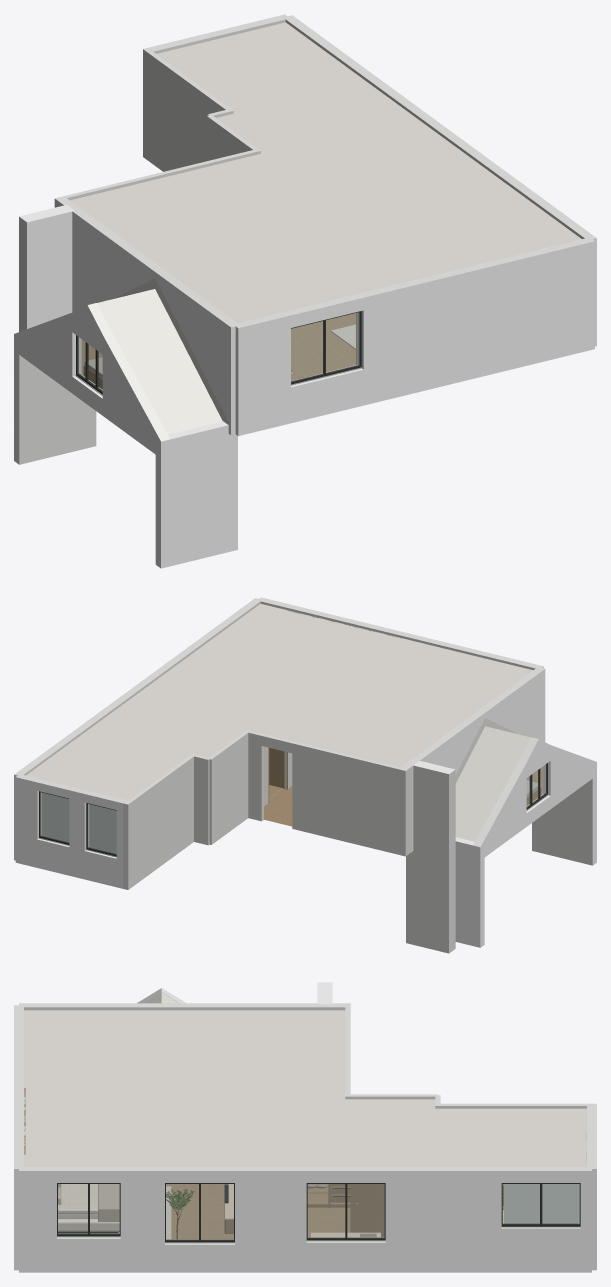
3 views of the same model, one above another, from view 1: azimuth 30°, elevation 25°; view 2: azimuth 150°, elevation 25°; view 3: azimuth 270°, elevation 25° (orthographic). The views are drawn at different scales.
Parts seen in each view (by area): view 1: Bedroom 02 | ceiling 0, Proposal | New wing south upper end pier.001, Bedroom 02 | ceiling 2, Proposal | Garage wing south return.001, Proposal | West upper principal facade above wing roof.001, Bedroom 02 | retained vault soffit, Proposal | New wing south upper pier 0.001, Proposal | Garage wing north return.001, Proposal | Entrance bay south return.001, Proposal | Guest bathroom west.001, Proposal | New wing south upper window 0 glass.001, Proposal | Continued roof garage wing gable south head 0.001 (+15 smaller); view 2: Bedroom 02 | ceiling 0, Bedroom 02 | ceiling 2, Proposal | Principal suite north partition pier 0.001, Proposal | Entrance bay south return.001, Bedroom 02 | retained vault soffit.001, Proposal | West upper principal facade above wing roof.001, Proposal | Guest bathroom west.001, Proposal | Garage wing south return.001, Proposal | Principal study west wall.001, Proposal | Garage wing north return.001, Proposal | Courtyard upper return.001, Proposal | North upper facade east end pier.001 (+21 smaller); view 3: Bedroom 02 | ceiling 0, Bedroom 02 | ceiling 2, Proposal | New wing east upper end pier.001, Proposal | New wing east upper pier 2.001, Proposal | New wing east upper pier 1.001, Proposal | New wing east upper window 2 glass.001, Proposal | New wing east upper pier 0.001, Proposal | New wing east upper window 1 glass.001, Proposal | New wing east upper sill 3, Proposal | New wing east upper window 0 glass.001, Proposal | New wing east upper window 3 glass, Ensuite 01 | bath window obscure pane (+20 smaller).
Boxes of the visible parts, x1,y1,x2,y2 form: Bedroom 02 | ceiling 0: [70, 154, 581, 322]; Proposal | New wing south upper end pier.001: [358, 237, 594, 405]; Bedroom 02 | ceiling 2: [156, 22, 464, 190]; Proposal | Garage wing south return.001: [155, 421, 237, 568]; Proposal | West upper principal facade above wing roof.001: [81, 216, 237, 421]; Bedroom 02 | retained vault soffit: [97, 289, 222, 434]; Proposal | New wing south upper pier 0.001: [233, 311, 290, 435]; Proposal | Garage wing north return.001: [14, 335, 96, 464]; Proposal | Entrance bay south return.001: [19, 203, 81, 331]; Proposal | Guest bathroom west.001: [145, 50, 231, 171]; Proposal | New wing south upper window 0 glass.001: [291, 312, 359, 381]; Proposal | Continued roof garage wing gable south head 0.001: [102, 332, 169, 441]; Bedroom 02 | ceiling 0: [166, 603, 532, 767]; Bedroom 02 | ceiling 2: [26, 673, 286, 800]; Proposal | Principal suite north partition pier 0.001: [292, 741, 400, 854]; Proposal | Entrance bay south return.001: [406, 761, 455, 953]; Bedroom 02 | retained vault soffit.001: [455, 726, 530, 841]; Proposal | West upper principal facade above wing roof.001: [420, 668, 543, 774]; Proposal | Guest bathroom west.001: [127, 754, 193, 885]; Proposal | Garage wing south return.001: [532, 763, 596, 865]; Proposal | Principal study west wall.001: [208, 730, 248, 844]; Proposal | Garage wing north return.001: [455, 837, 484, 947]; Proposal | Courtyard upper return.001: [124, 789, 148, 889]; Proposal | North upper facade east end pier.001: [15, 774, 40, 867]; Bedroom 02 | ceiling 0: [24, 1010, 345, 1166]; Bedroom 02 | ceiling 2: [249, 1099, 586, 1166]; Proposal | New wing east upper end pier.001: [385, 1167, 501, 1272]; Proposal | New wing east upper pier 2.001: [235, 1167, 306, 1272]; Proposal | New wing east upper pier 1.001: [120, 1167, 164, 1272]; Proposal | New wing east upper window 2 glass.001: [308, 1184, 384, 1237]; Proposal | New wing east upper pier 0.001: [19, 1167, 56, 1272]; Proposal | New wing east upper window 1 glass.001: [166, 1184, 233, 1239]; Proposal | New wing east upper sill 3: [501, 1227, 580, 1272]; Proposal | New wing east upper window 0 glass.001: [58, 1184, 119, 1233]; Proposal | New wing east upper window 3 glass: [503, 1184, 579, 1223]; Ensuite 01 | bath window obscure pane: [504, 1184, 578, 1223].
Bounding box in the file's own units: 10.72 × 5.35 × 13.28.
Materials: 35 (3 with a texture image).
